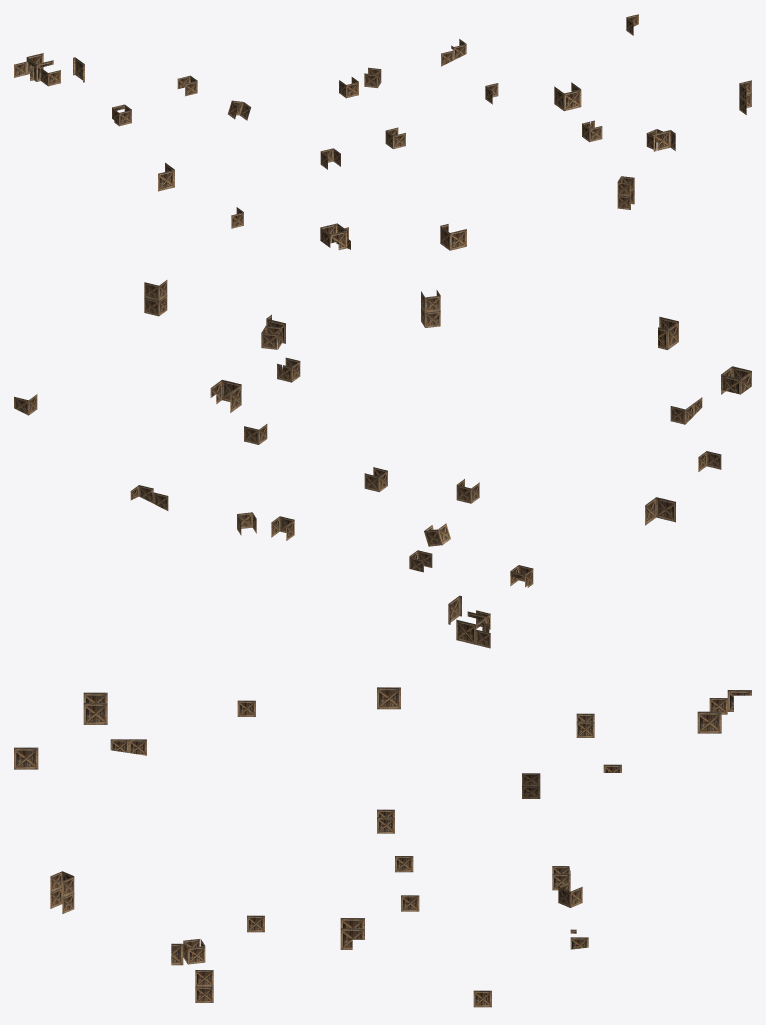
The picture shows the model from 3 angles, top to bottom: view 1: azimuth 30°, elevation 25°; view 2: azimuth 150°, elevation 25°; view 3: azimuth 270°, elevation 25°; orthographic projection. The views are drawn at different scales.
Parts seen in each view (by area): view 1: Object_5; view 2: Object_5; view 3: Object_5.
Boxes of the visible parts, x1,y1,x2,y2 form: Object_5: (14,14,751,250); Object_5: (14,280,751,648); Object_5: (14,687,751,1007).
Size of the model in its own units: 52.91 by 5.12 by 52.05.
Materials: 1 (1 with a texture image).
